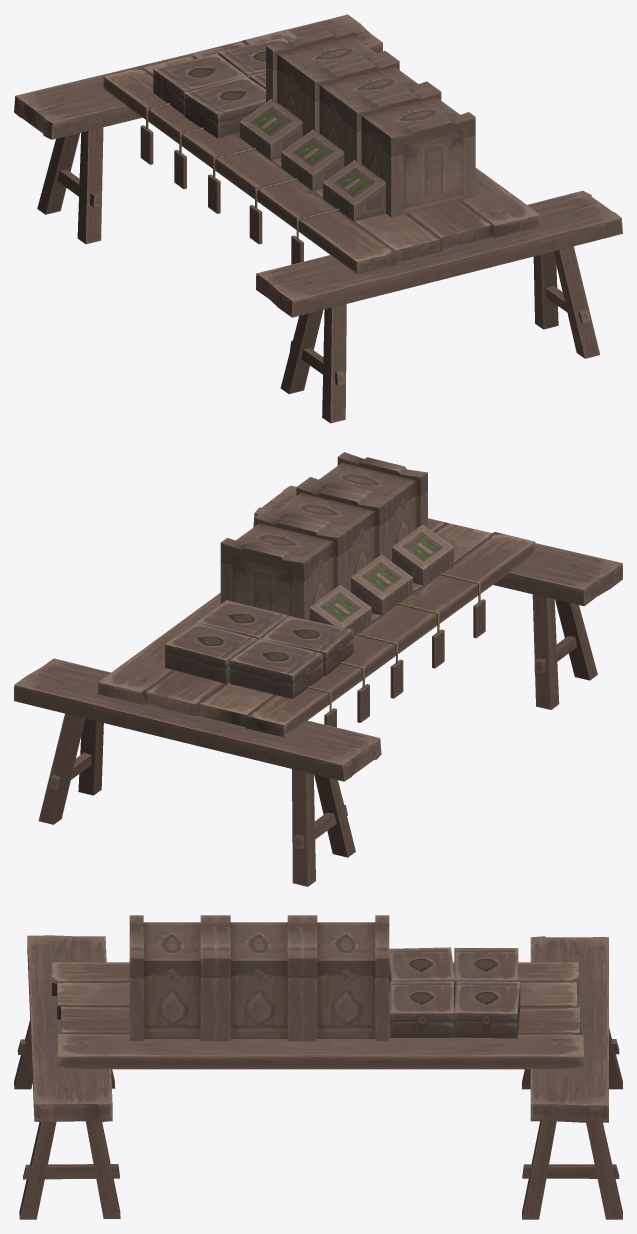
The model's file is Homeworld_Interior_Cyg_Table_Prop_Baishezu_01_Lod0.fbx.
3 views of the same model, one above another, from view 1: azimuth 30°, elevation 25°; view 2: azimuth 150°, elevation 25°; view 3: azimuth 270°, elevation 25° (orthographic). The views are drawn at different scales.
Parts seen in each view (by area): view 1: Area_Cyg_Prop_QYZ_Bandeng_01_Lod0; view 2: Area_Cyg_Prop_QYZ_Bandeng_01_Lod0; view 3: Area_Cyg_Prop_QYZ_Bandeng_01_Lod0.
Part boxes in pixels (x1,y1,x2,y2): Area_Cyg_Prop_QYZ_Bandeng_01_Lod0: (14, 14, 622, 423); Area_Cyg_Prop_QYZ_Bandeng_01_Lod0: (14, 452, 622, 886); Area_Cyg_Prop_QYZ_Bandeng_01_Lod0: (14, 915, 622, 1219).
Size of the model in its own units: 1.42 by 0.8784 by 2.15.
